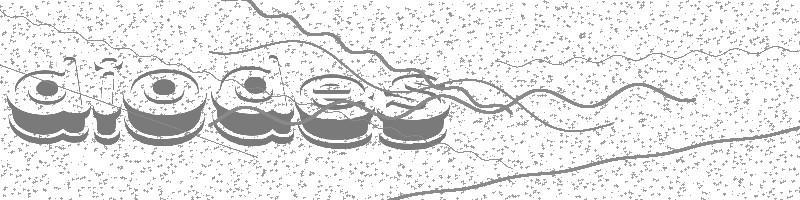d: (212, 55, 295, 147), (10, 58, 90, 144)
e: (297, 74, 372, 150)
i: (94, 59, 120, 146)
o: (124, 69, 207, 145)
s: (378, 73, 451, 150)
